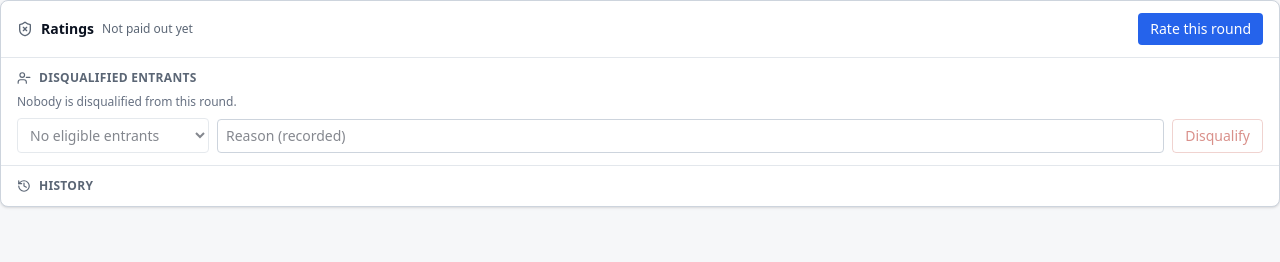
Test: ContestRatingLedger › surfaces the reason a rating operation was refused
Click the button "Rate this round" at (1201, 29), box 1138,13 -> 1263,45
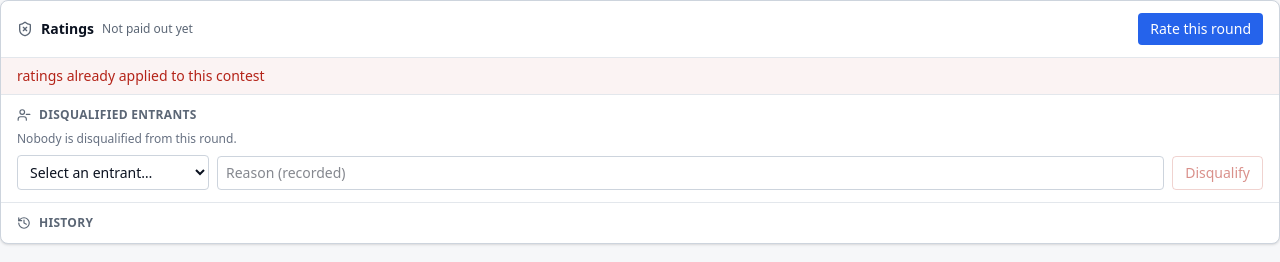
Now the text "ratings already applied to this contest" is shown, box 1,58 -> 1279,95
